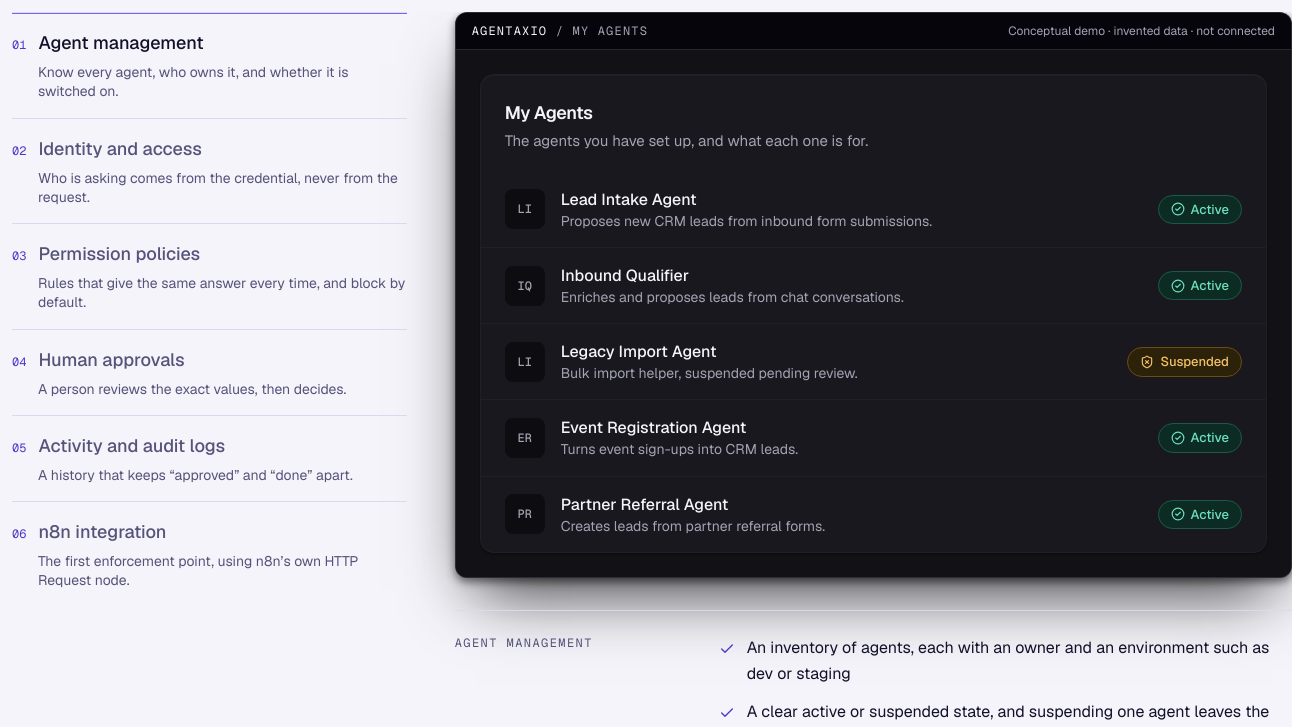
FeatureShowcase › switches the demonstration when a control is chosen, using the real dashboard components
Click the tab "Human approvals": (112, 359) left=12, top=328, right=407, bottom=415
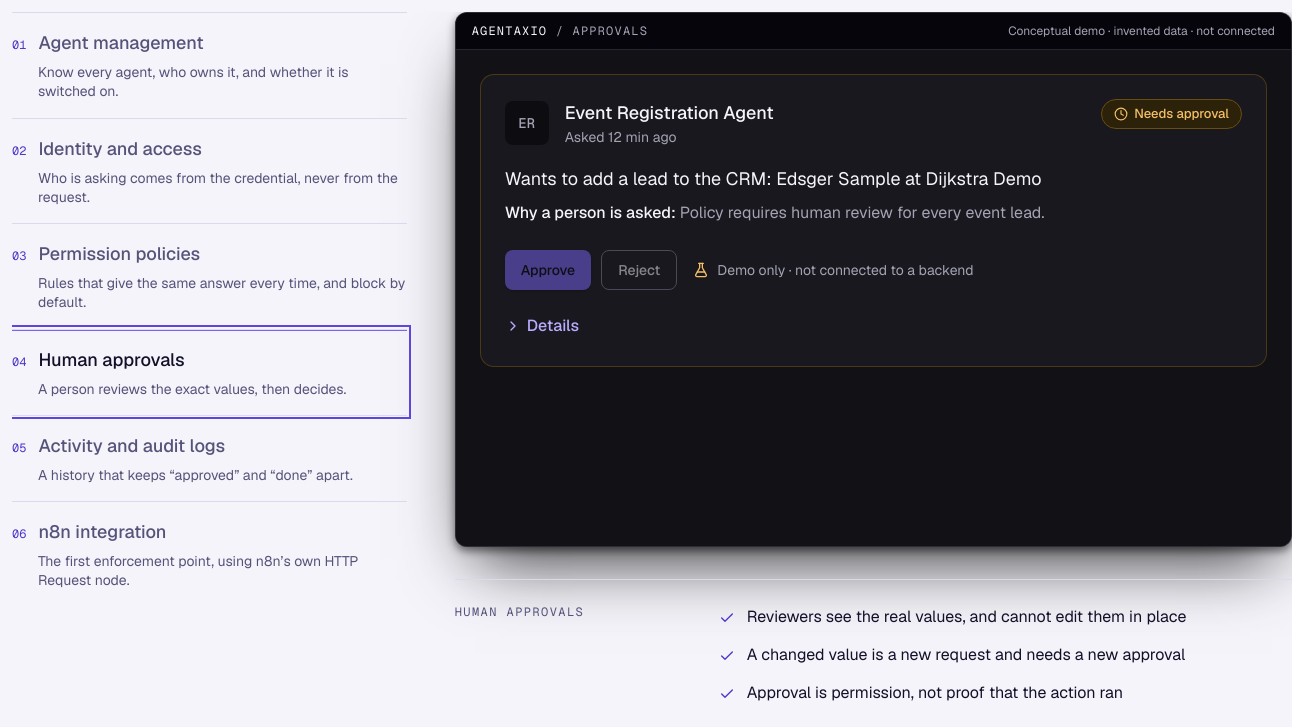
Expected: the text "Demo only · not connected to a backend" is shown, left=693, top=260, right=974, bottom=280
